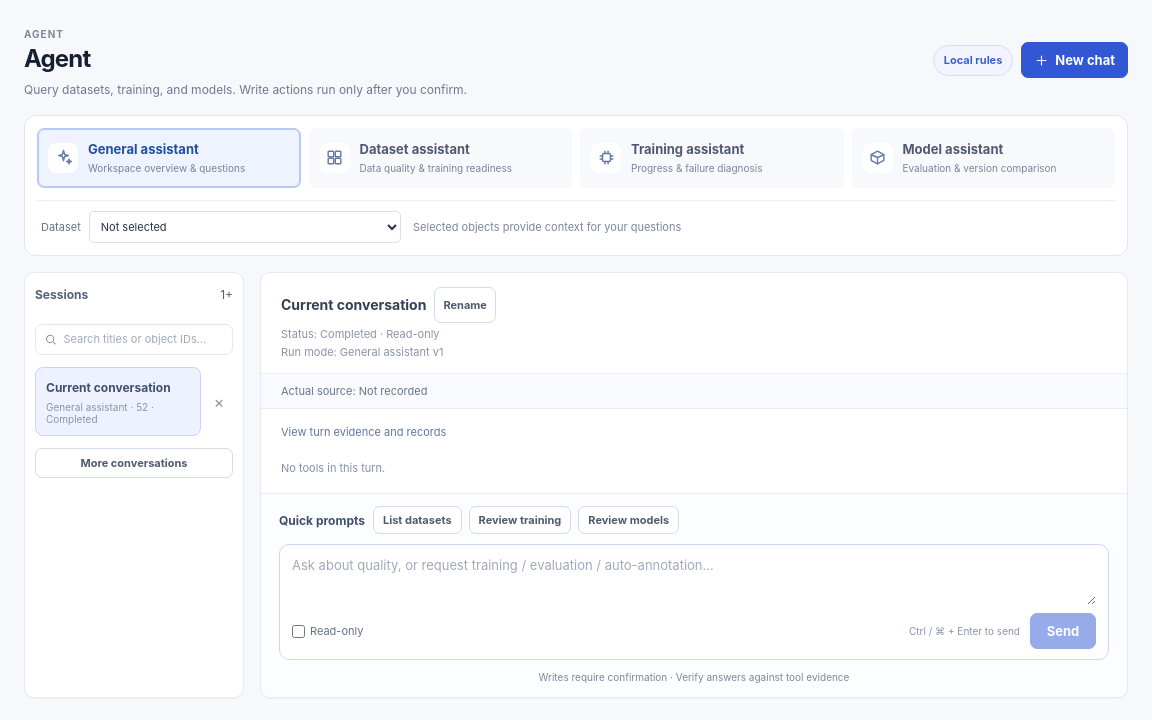
Scenario: paginated Agent history › appends and deduplicates conversation pages without loading or selecting them
(page scrolled)
What coordinates should you click on to do the following:
click the button with class "agent-load-more"
I would click on:
 (134, 463)
Its box is 35,448 -> 233,478.
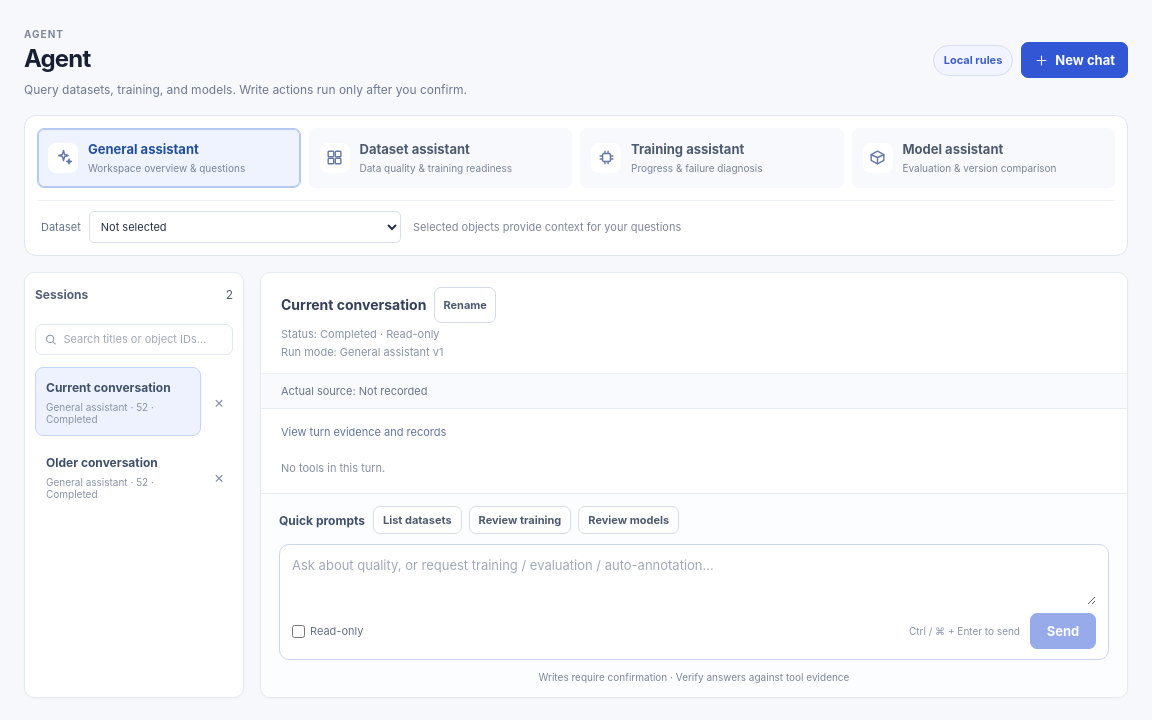
Expected: the heading "Current conversation" is shown, 281,296 -> 426,314
Expected: the number of buttons with class "agent-session-item" is 2, 35,367 -> 201,436; 35,442 -> 201,511
Expected: the button with class "agent-load-more" is gone
